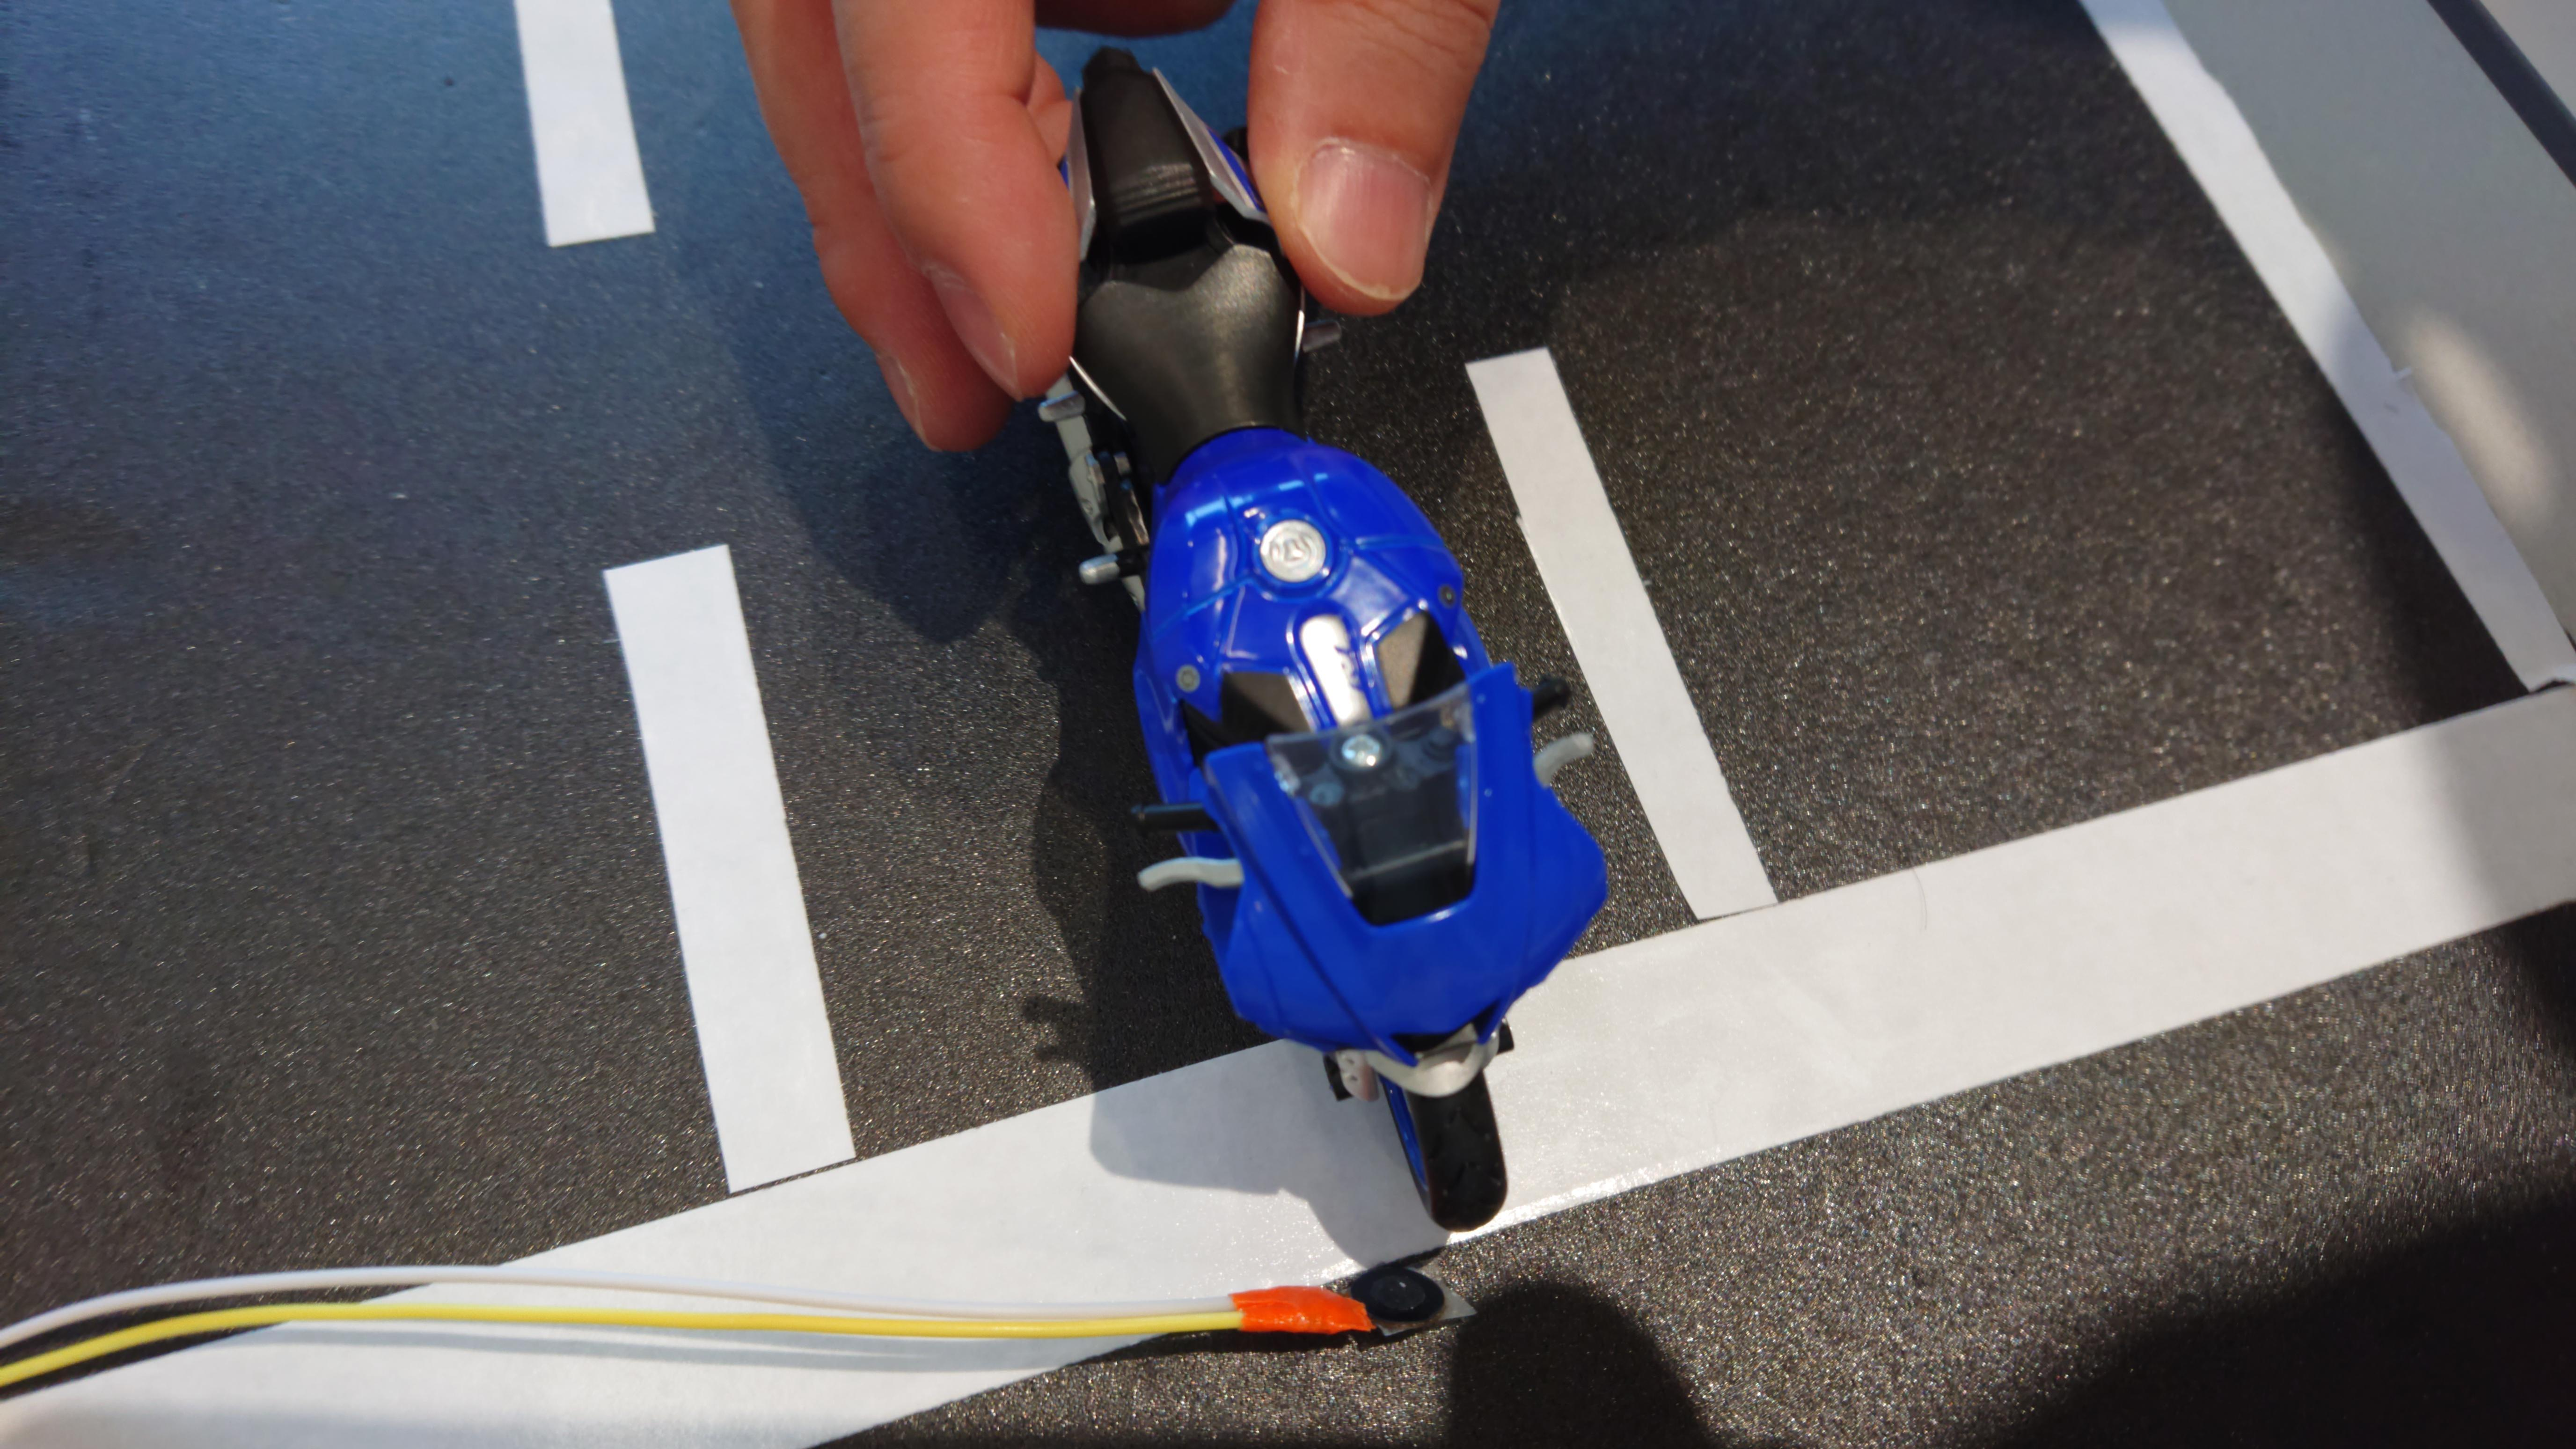Motorcycle: (1000, 37, 1615, 1261)
